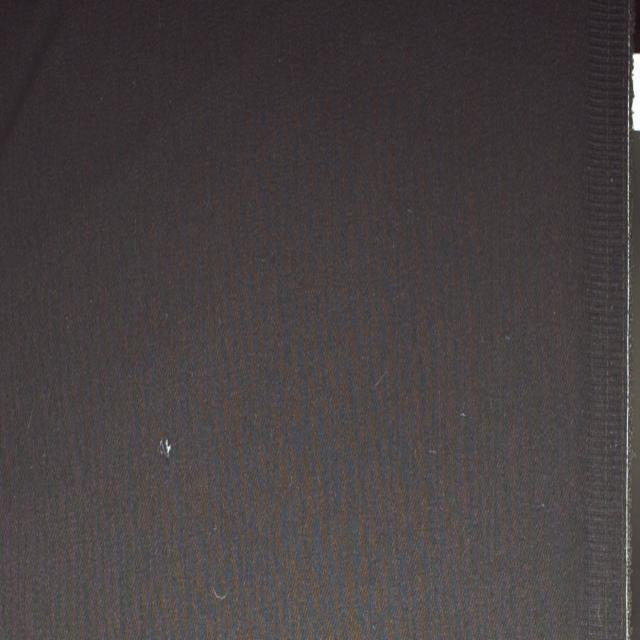Knot: (159, 439, 172, 460)
